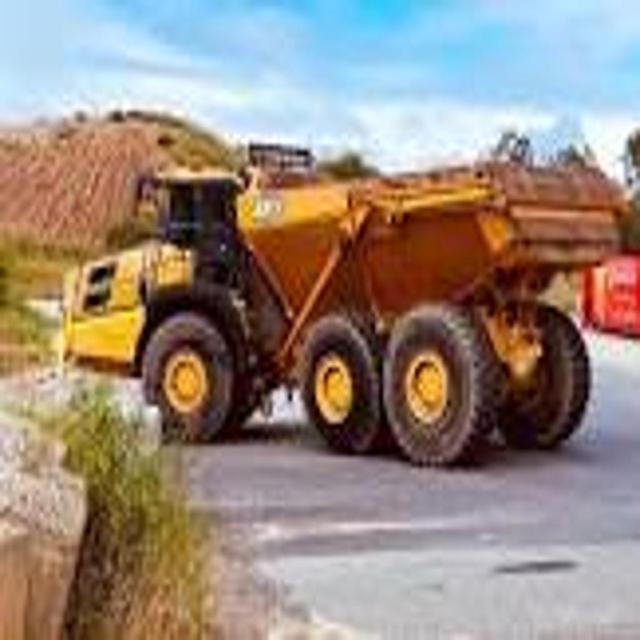dump_truck: (59, 141, 624, 470)
